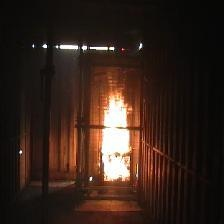fire: (97, 74, 138, 187)
